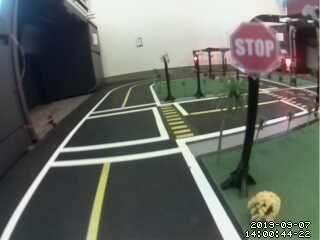Stop_Sign: (229, 23, 283, 77)
